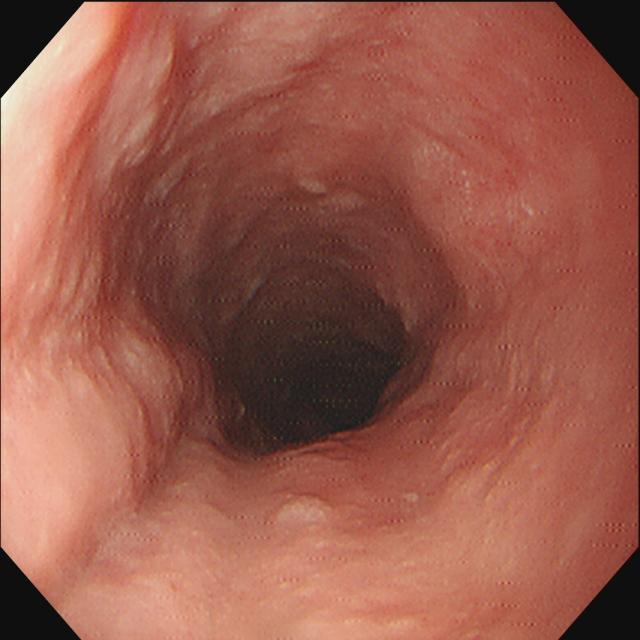E: (243, 311, 403, 445)
J: (106, 21, 185, 183)
